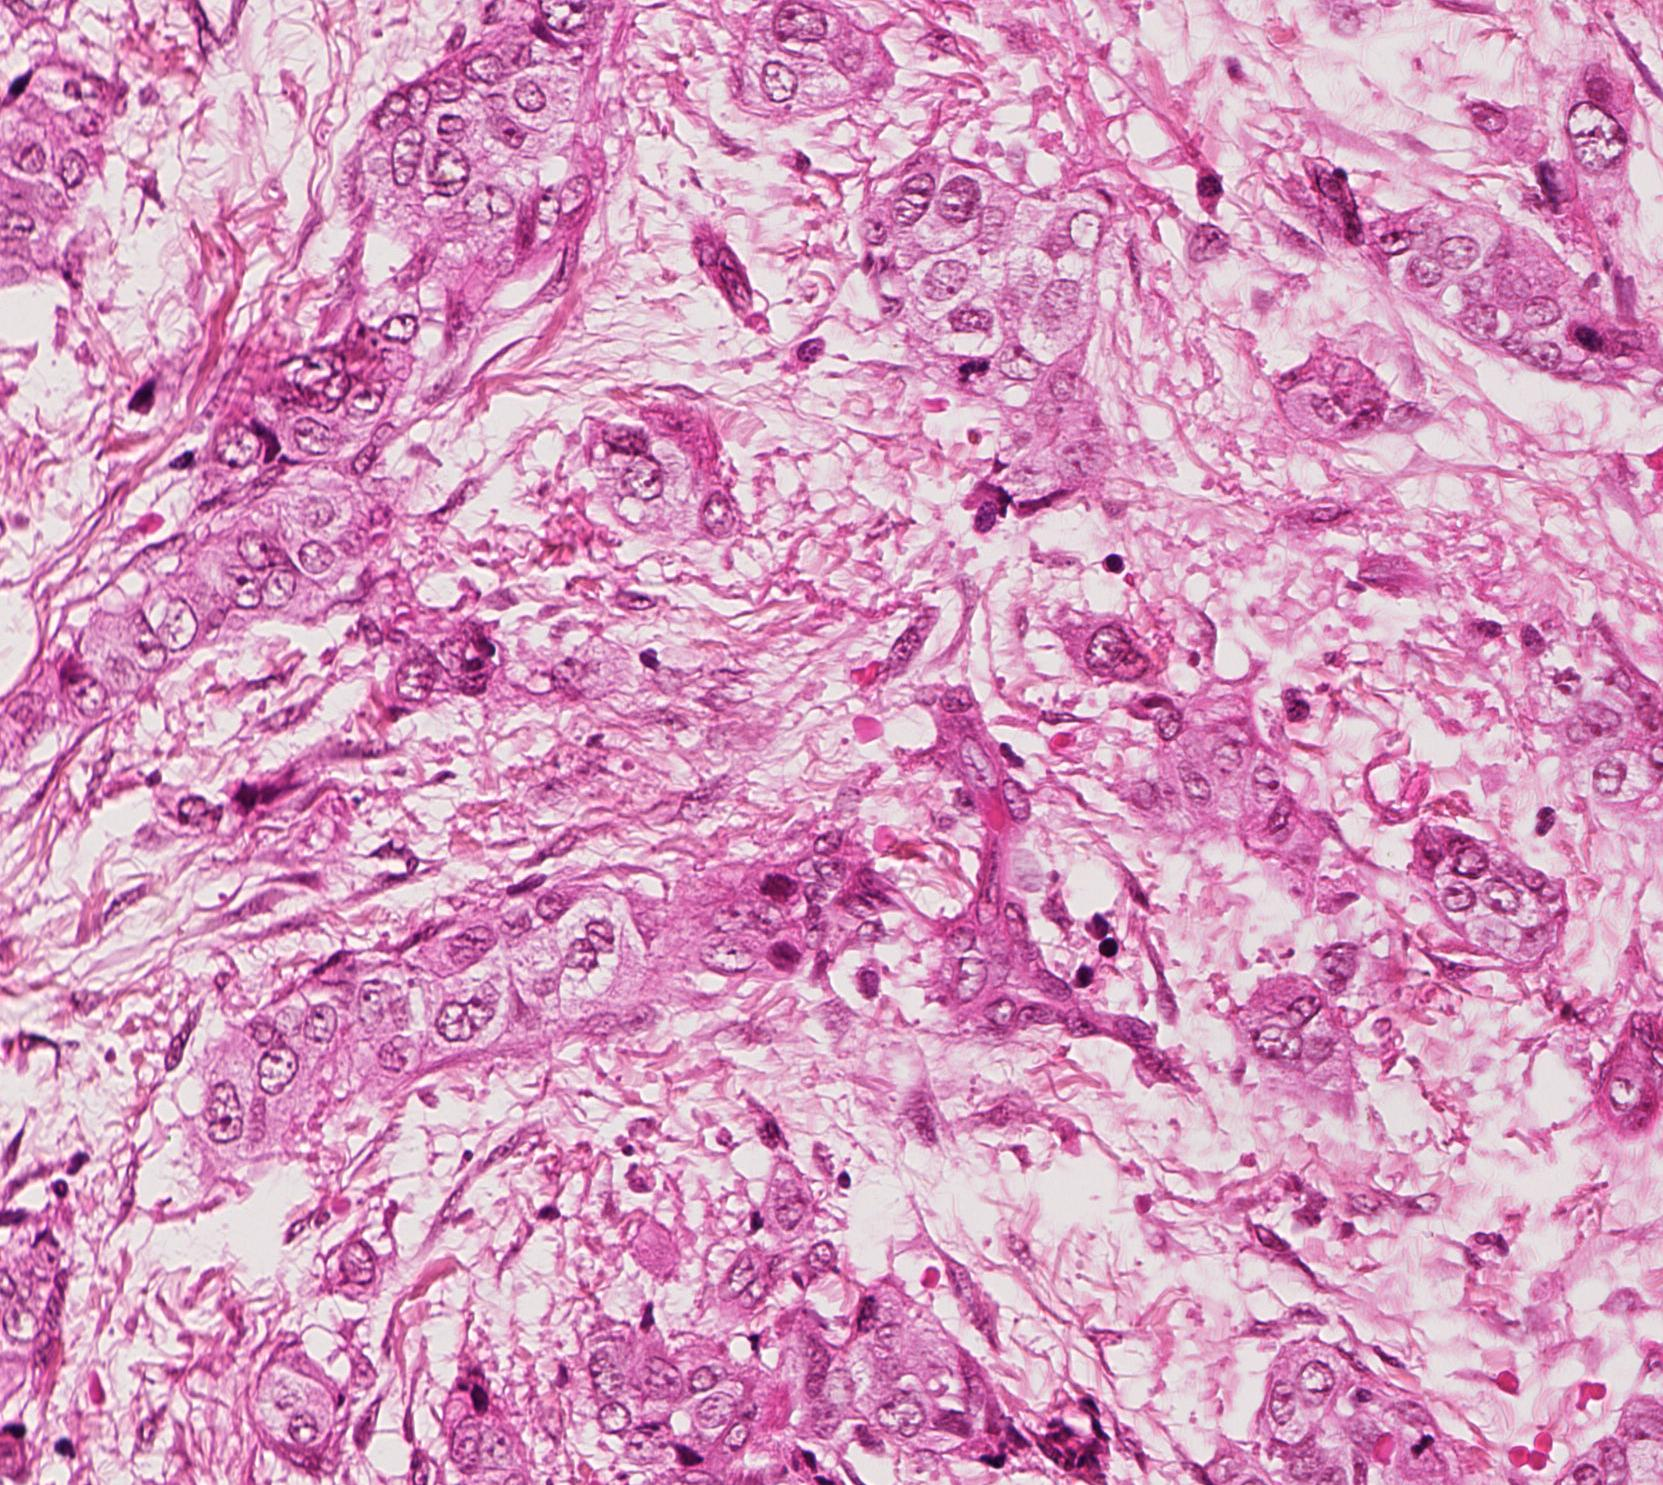mitosis: (1392, 1413, 1452, 1474)
